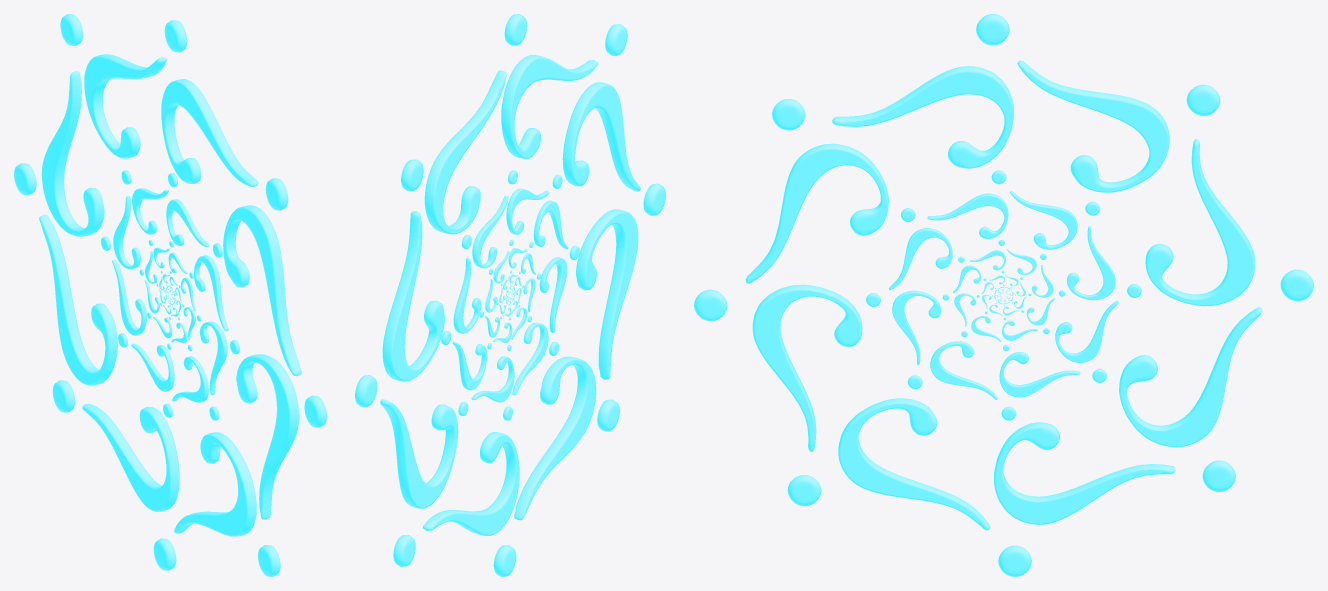
Rendered from conundrum2_1_t.fbx.
3 renders of one model, left to right at view 1: azimuth 30°, elevation 25°; view 2: azimuth 150°, elevation 25°; view 3: azimuth 270°, elevation 25°, orthographic.
Visible parts, largest first — view 1: Text45339; view 2: Text45339; view 3: Text45339.
Part boxes in pixels (x1=…): Text45339: x1=14, y1=14, x2=326, y2=576; Text45339: x1=355, y1=14, x2=665, y2=576; Text45339: x1=694, y1=14, x2=1313, y2=576.
Size of the model in its own units: 273 by 14782 by 14782.
